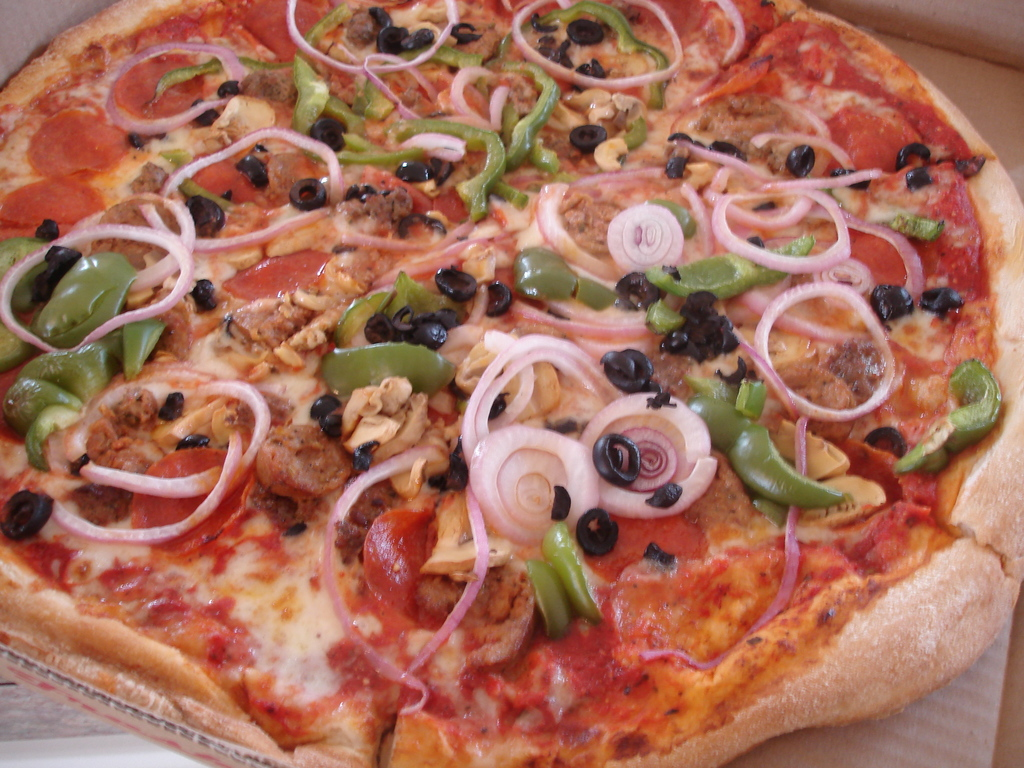Pizza: (0, 0, 979, 768)
